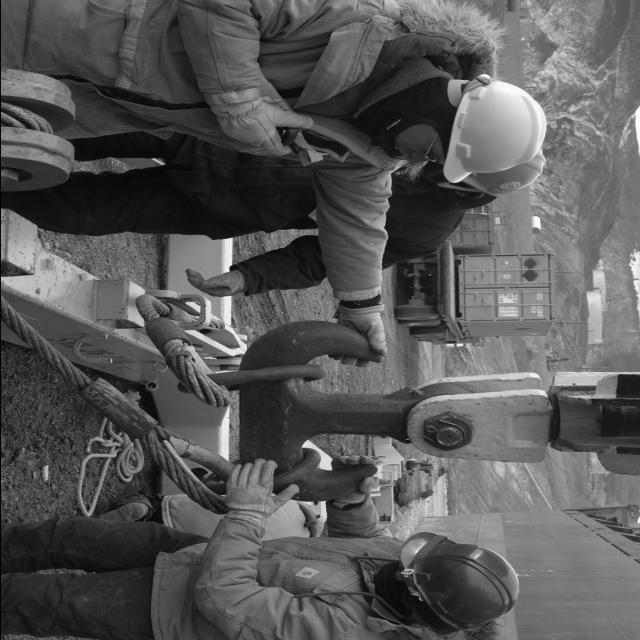safety_helmet: (396, 530, 516, 634), (439, 79, 544, 185)
